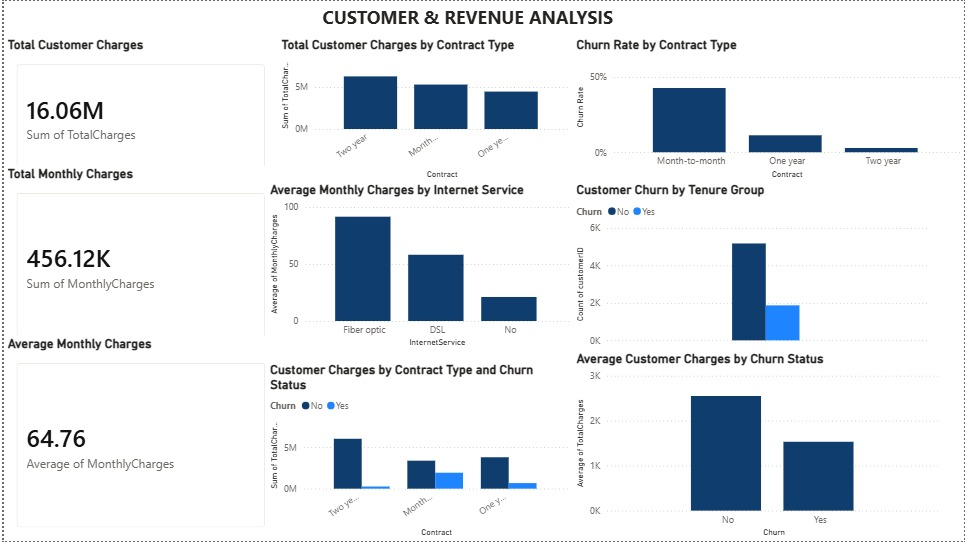

What the dashboard file says about the page in this screenshot:
{"tool":"powerbi","page":{"name":"Customer & Revenue","canvas":[1280,720],"ordinal":2},"visuals":[{"type":"cardVisual","title":"Total Customer Charges","fields":{"Data":["Sum(churn_cleaned_for_powerbi.TotalCharges)"]},"box":[0,48.3,365,193.3],"z":0},{"type":"cardVisual","title":"Total Monthly Charges","fields":{"Data":["Sum(churn_cleaned_for_powerbi.MonthlyCharges)"]},"box":[0,220.8,365.7,247.1],"z":1000},{"type":"cardVisual","title":"Average Monthly Charges","fields":{"Data":["Avg(churn_cleaned_for_powerbi.MonthlyCharges)"]},"box":[0,447.1,365.7,272.9],"z":2000},{"type":"clusteredColumnChart","title":"Total Customer Charges by Contract Type","fields":{"Category":["churn_cleaned_for_powerbi.Contract"],"Y":["Sum(churn_cleaned_for_powerbi.TotalCharges)"]},"box":[365,48.3,393.3,193.3],"z":3000},{"type":"clusteredColumnChart","title":"Average Monthly Charges by Internet Service","fields":{"Category":["churn_cleaned_for_powerbi.InternetService"],"Y":["Avg(churn_cleaned_for_powerbi.MonthlyCharges)"]},"box":[350,241.7,408.3,225],"z":4000},{"type":"clusteredColumnChart","title":"Customer Charges by Contract Type and Churn Status","fields":{"Category":["churn_cleaned_for_powerbi.Contract"],"Y":["Sum(churn_cleaned_for_powerbi.TotalCharges)"],"Series":["churn_cleaned_for_powerbi.Churn"]},"box":[350,481.4,408.6,238.6],"z":5000},{"type":"clusteredColumnChart","title":"Churn Rate by Contract Type","fields":{"Y":["churn_cleaned_for_powerbi.Churn Rate"],"Category":["churn_cleaned_for_powerbi.Contract"]},"box":[758.3,48.3,521.7,193.3],"z":6000},{"type":"clusteredColumnChart","title":"Customer Churn by Tenure Group","fields":{"Y":["CountNonNull(churn_cleaned_for_powerbi.customerID)"],"Series":["churn_cleaned_for_powerbi.Churn"]},"box":[758.3,241.7,478.3,225],"z":7000},{"type":"clusteredColumnChart","title":"Average Customer Charges by Churn Status","fields":{"Category":["churn_cleaned_for_powerbi.Churn"],"Y":["Avg(churn_cleaned_for_powerbi.TotalCharges)"]},"box":[758.6,467.1,495.7,252.9],"z":8000},{"type":"textbox","box":[0,0,1236.7,48.3],"z":9000}]}

Visuals, with their boxes in screenshot pixels (x1, y1, x2, y2), scaled from the page's 1280x720 canvas onto the 965x542 screenshot:
"Total Customer Charges" cardVisual: detection(0, 36, 275, 182)
"Total Monthly Charges" cardVisual: detection(0, 166, 276, 352)
"Average Monthly Charges" cardVisual: detection(0, 337, 276, 541)
"Total Customer Charges by Contract Type" clusteredColumnChart: detection(275, 36, 572, 182)
"Average Monthly Charges by Internet Service" clusteredColumnChart: detection(264, 182, 572, 351)
"Customer Charges by Contract Type and Churn Status" clusteredColumnChart: detection(264, 362, 572, 541)
"Churn Rate by Contract Type" clusteredColumnChart: detection(572, 36, 964, 182)
"Customer Churn by Tenure Group" clusteredColumnChart: detection(572, 182, 932, 351)
"Average Customer Charges by Churn Status" clusteredColumnChart: detection(572, 352, 946, 541)
textbox: detection(0, 0, 932, 36)
